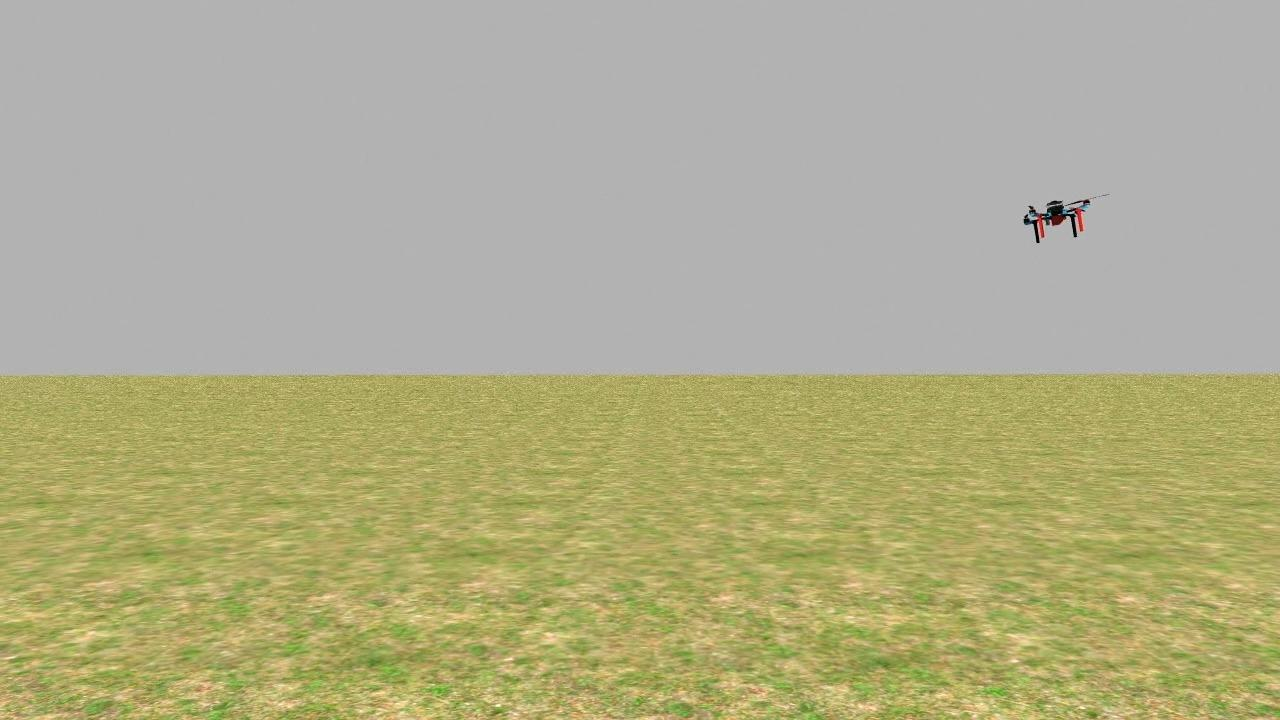UAV: (1021, 192, 1105, 243)
